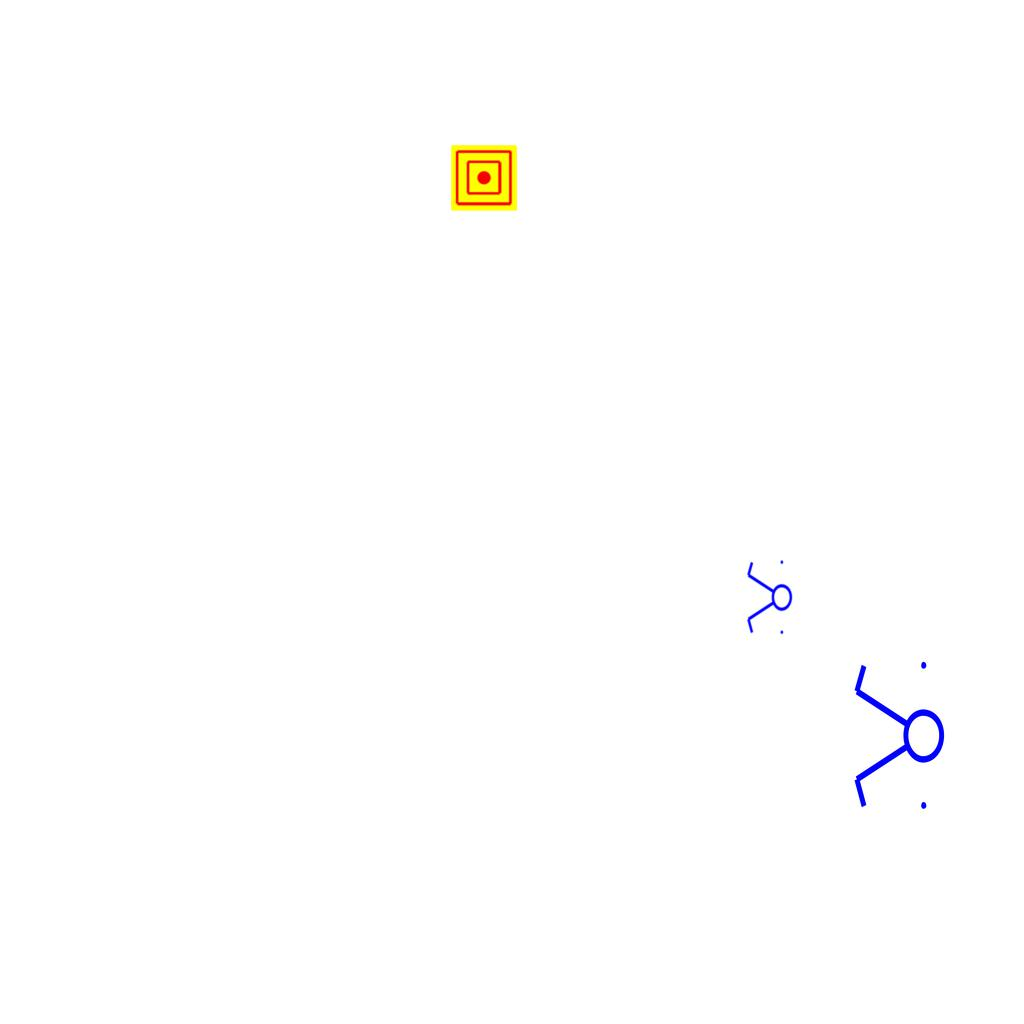NAM-Nichtautomatischer_Melder: (451, 145, 517, 211)
Serienschalter: (850, 653, 946, 821), (745, 556, 793, 640)
